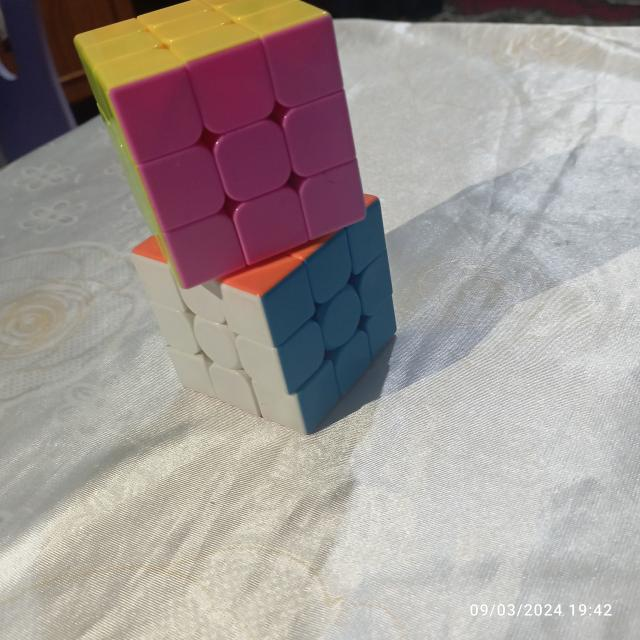Rub: (69, 0, 369, 290), (129, 173, 401, 441)
